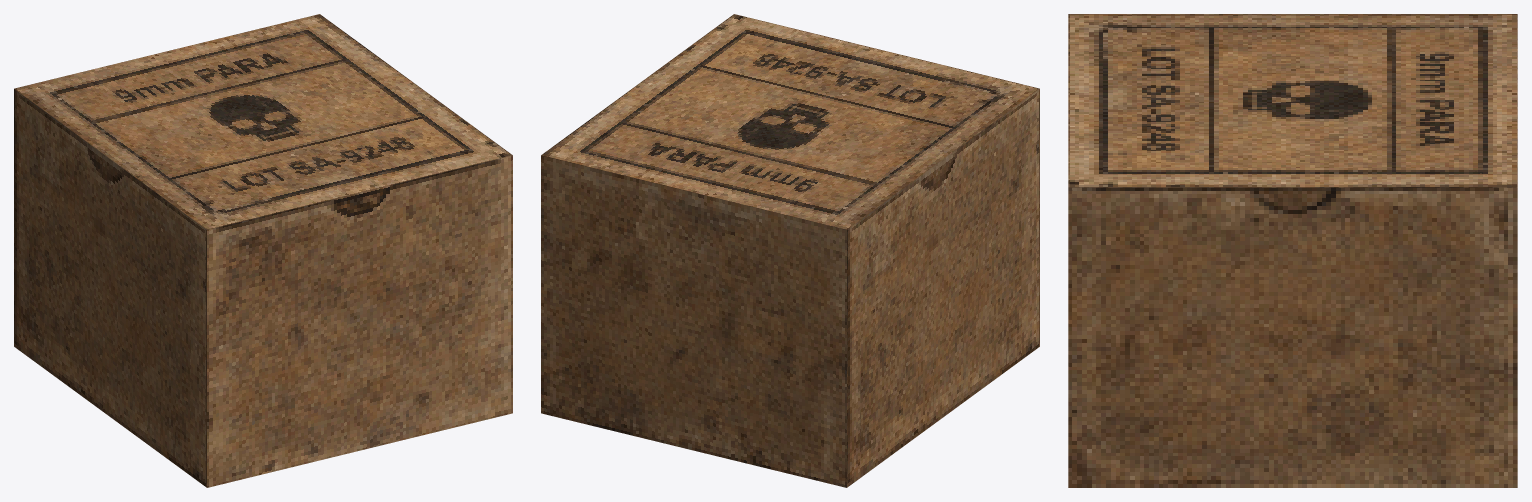
File: ammo_revolver.glb
3 views of the same model, side by side, from view 1: azimuth 30°, elevation 25°; view 2: azimuth 150°, elevation 25°; view 3: azimuth 270°, elevation 25° (orthographic). The views are drawn at different scales.
Visible parts, largest first — view 1: 9Cal_9Cal_0; view 2: 9Cal_9Cal_0; view 3: 9Cal_9Cal_0.
Part boxes in pixels (x1,y1,x2,y2): 9Cal_9Cal_0: (14,14,512,487); 9Cal_9Cal_0: (541,14,1039,487); 9Cal_9Cal_0: (1068,14,1517,487).
Bounding box in the file's own units: 9.09 × 7.33 × 9.94.
Materials: 1 (1 with a texture image).
